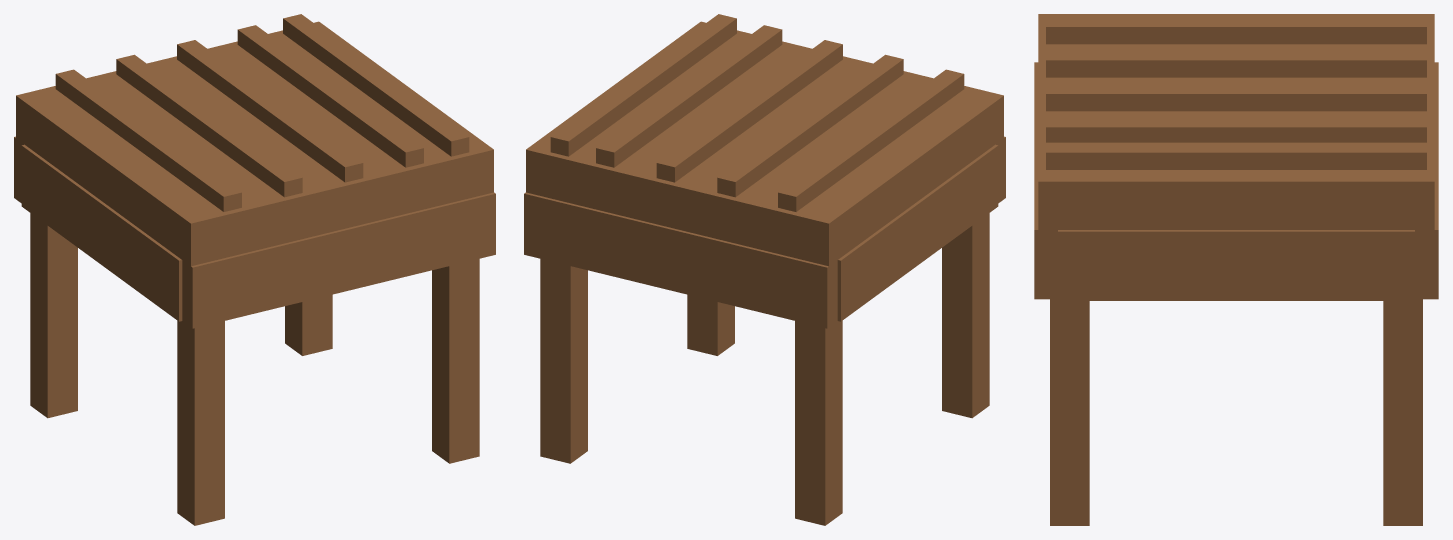
The model's file is pier.glb.
3 renders of one model, left to right at view 1: azimuth 30°, elevation 25°; view 2: azimuth 150°, elevation 25°; view 3: azimuth 270°, elevation 25°, orthographic. The views are drawn at different scales.
Parts seen in each view (by area): view 1: module.pier; view 2: module.pier; view 3: module.pier.
Boxes of the visible parts, box(x1,y1,x2,y2) form: module.pier: box(14, 14, 495, 525); module.pier: box(524, 14, 1005, 525); module.pier: box(1034, 14, 1438, 525).
Bounding box in the file's own units: 1 × 1 × 1.
